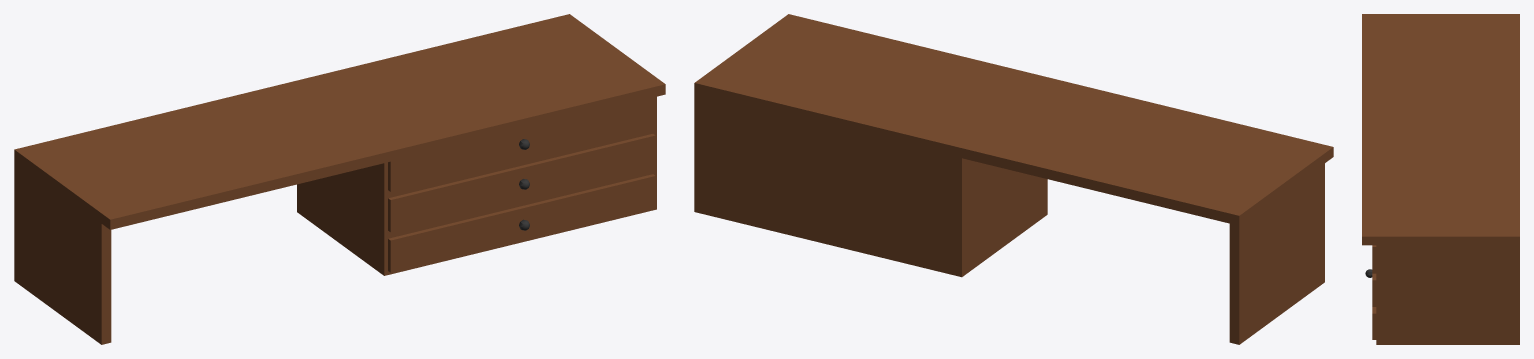
File: Desktop.glb
3 renders of one model, left to right at view 1: azimuth 30°, elevation 25°; view 2: azimuth 150°, elevation 25°; view 3: azimuth 270°, elevation 25°, orthographic. The views are drawn at different scales.
Visible parts, largest first — view 1: Mesa; view 2: Mesa; view 3: Mesa.
Part boxes in pixels (x1,y1,x2,y2): Mesa: [14, 14, 665, 344]; Mesa: [694, 14, 1333, 344]; Mesa: [1362, 14, 1519, 344].
Bounding box in the file's own units: 113 × 25.6 × 33.84.
